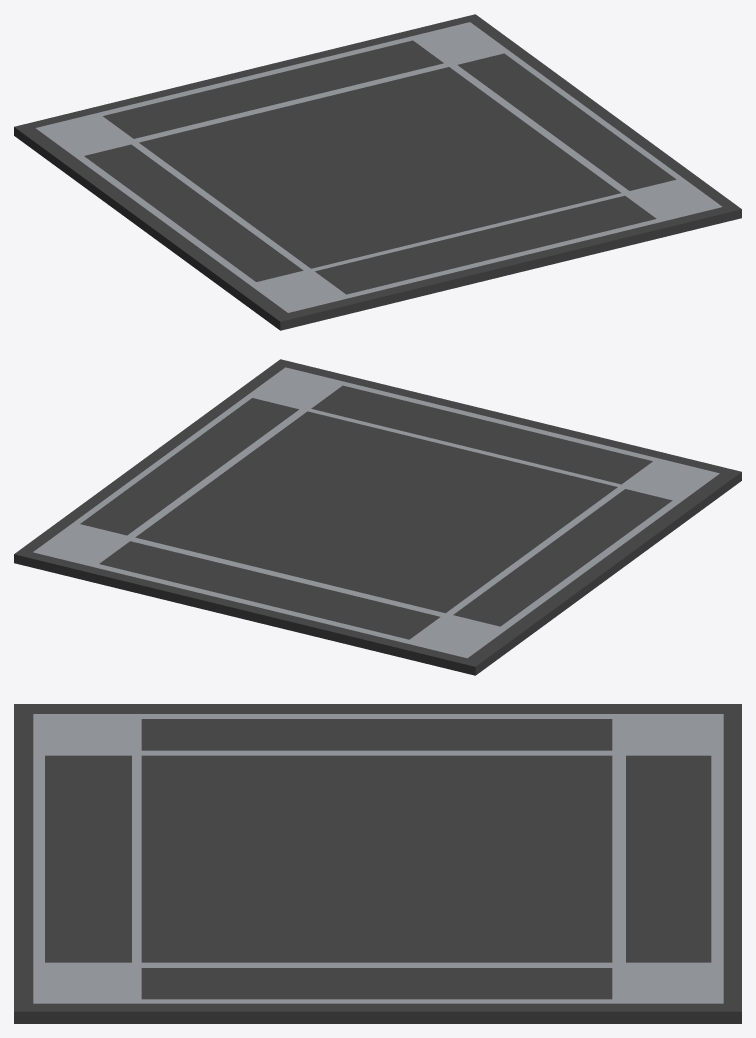
The model's file is Carpet_2A.fbx.
3 renders of one model, top to bottom at view 1: azimuth 30°, elevation 25°; view 2: azimuth 150°, elevation 25°; view 3: azimuth 270°, elevation 25°, orthographic. The views are drawn at different scales.
Visible parts, largest first — view 1: pPlane11; view 2: pPlane11; view 3: pPlane11.
Boxes of the visible parts, x1,y1,x2,y2 form: pPlane11: (14,14,741,330); pPlane11: (14,359,741,675); pPlane11: (14,704,741,1023).
Bounding box in the file's own units: 2.7 × 0.05 × 2.7.
Materials: 1 (1 with a texture image).
